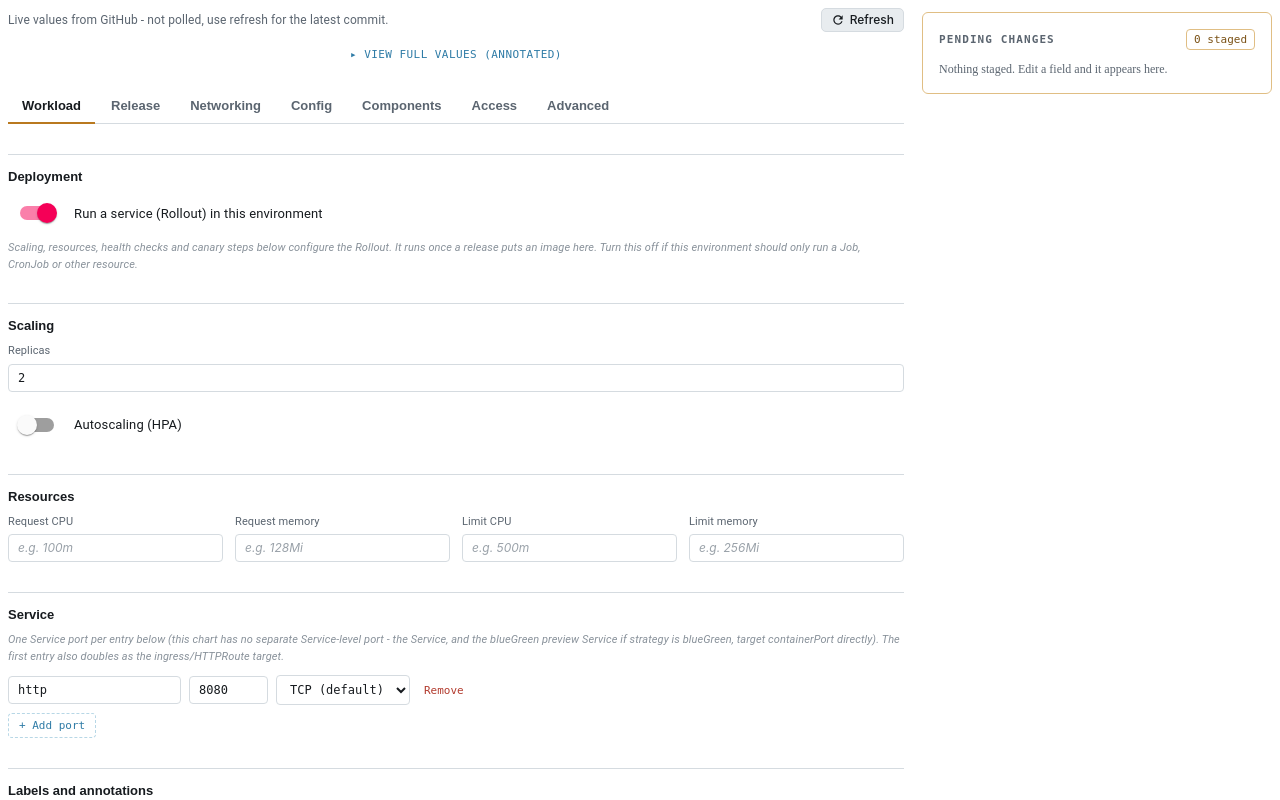
Test: values form pending changes › disables the button while a submit is in flight
Replace the text in the number field labelled "Replicas" with "5": [456, 378] box [8,364,904,392]
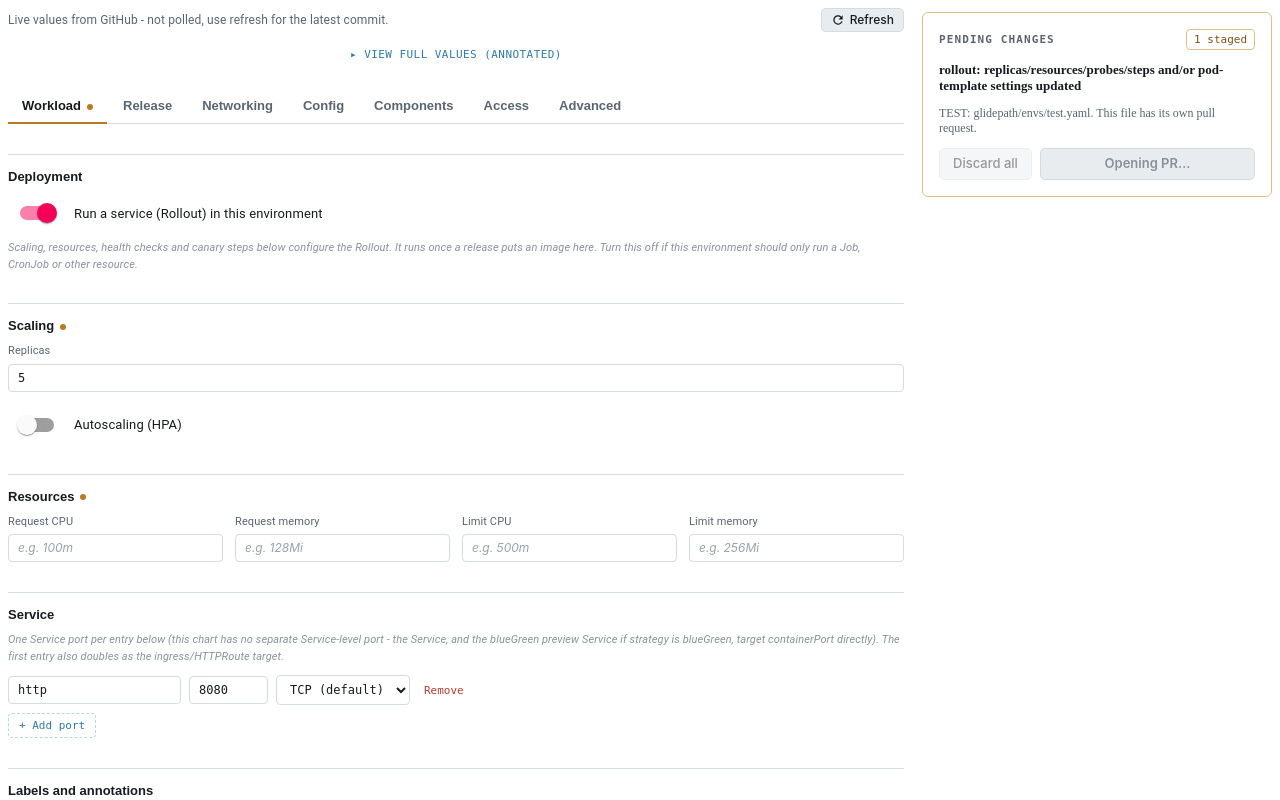
Expected: the button "Opening PR…" is disabled, [1040,148,1255,180]
